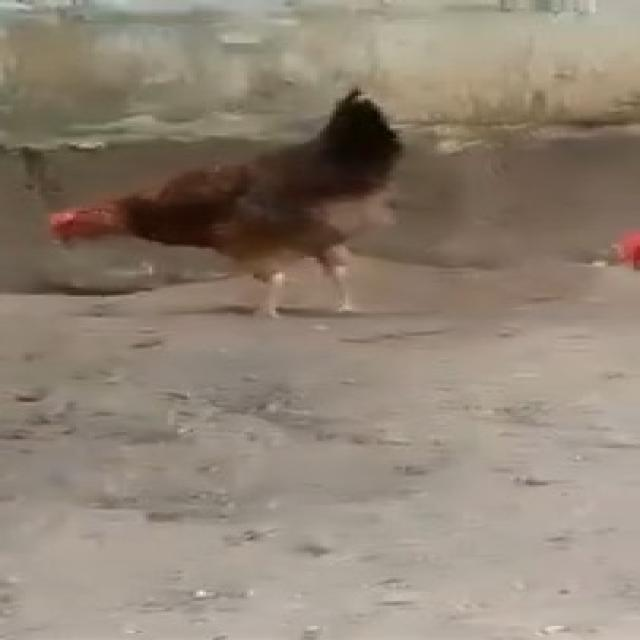stand bath: (35, 87, 440, 309)
